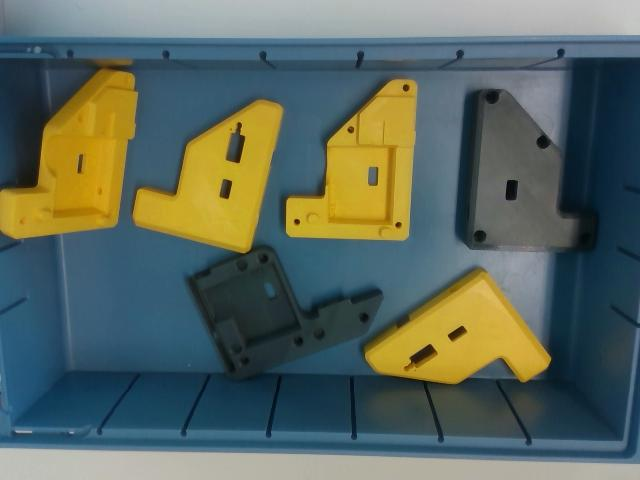1Agray: (458, 89, 602, 252)
1Ayellow: (1, 73, 141, 241), (285, 80, 421, 241)
1Byellow: (134, 98, 281, 254), (364, 267, 552, 381)
3Bgray: (186, 244, 385, 381)
